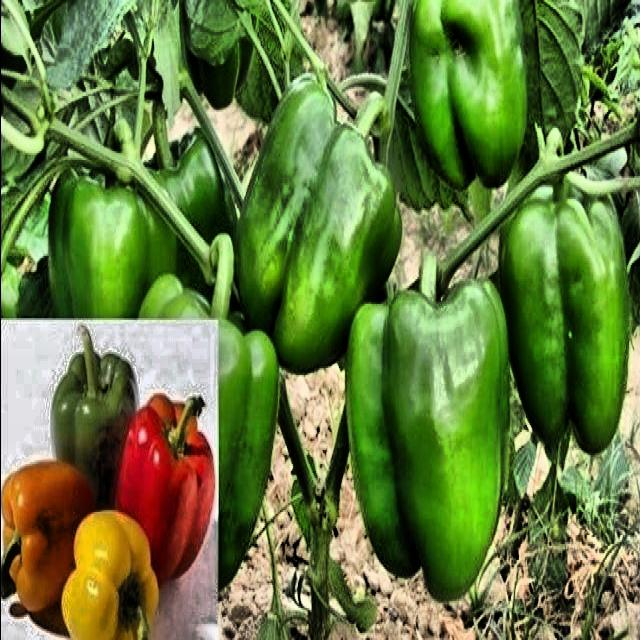capsicum: (346, 245, 522, 593)
